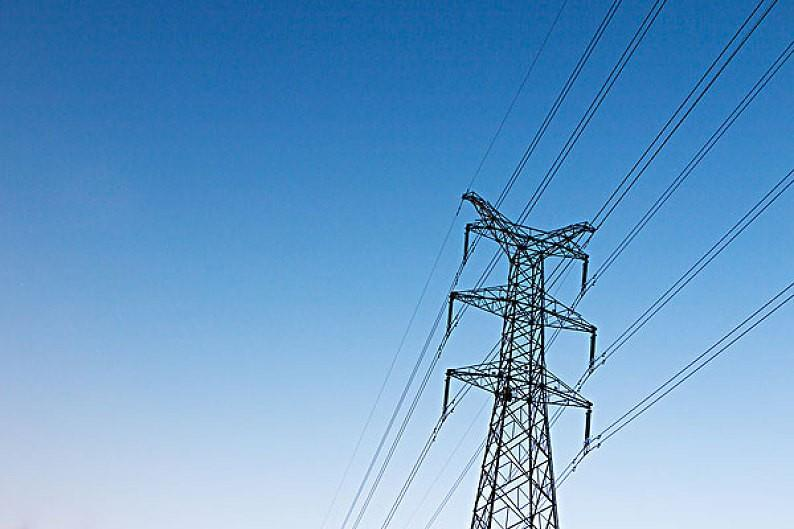power_tower: (426, 168, 610, 529)
